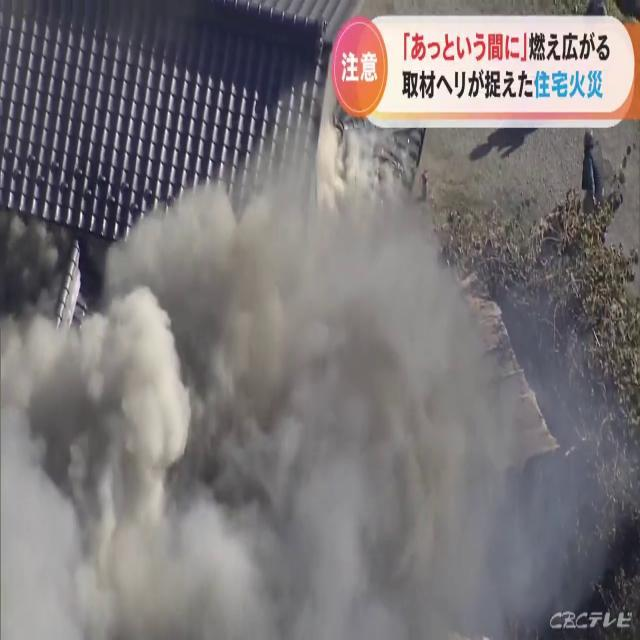Smoke: (1, 114, 633, 640)
